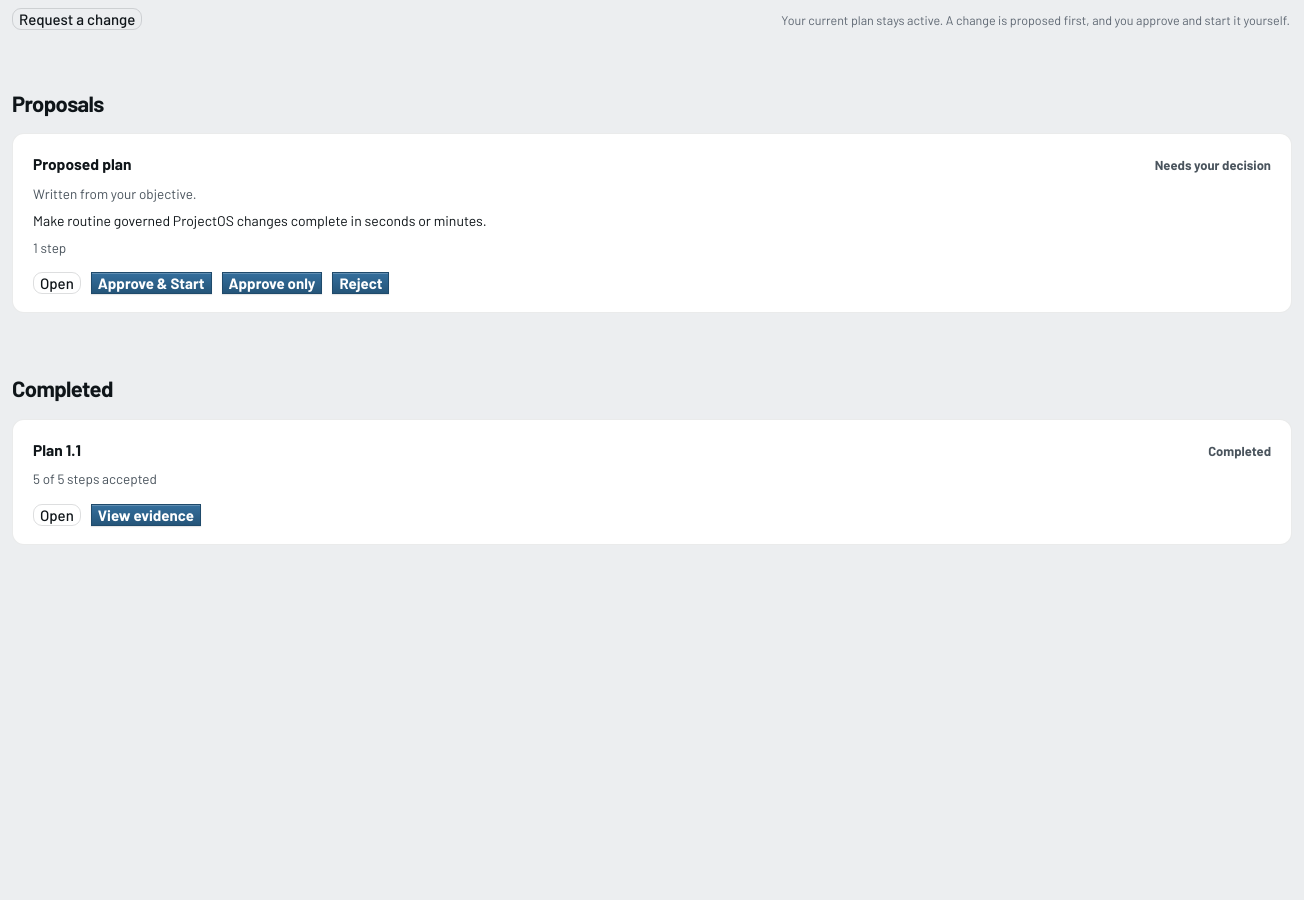
it: Approve & Start orchestrates the existing verbs, in order, and stops at a refusal › a refused decision stops everything: no activation, no run
Click the button "Approve & Start" at (151, 284), box [91, 272, 212, 294]
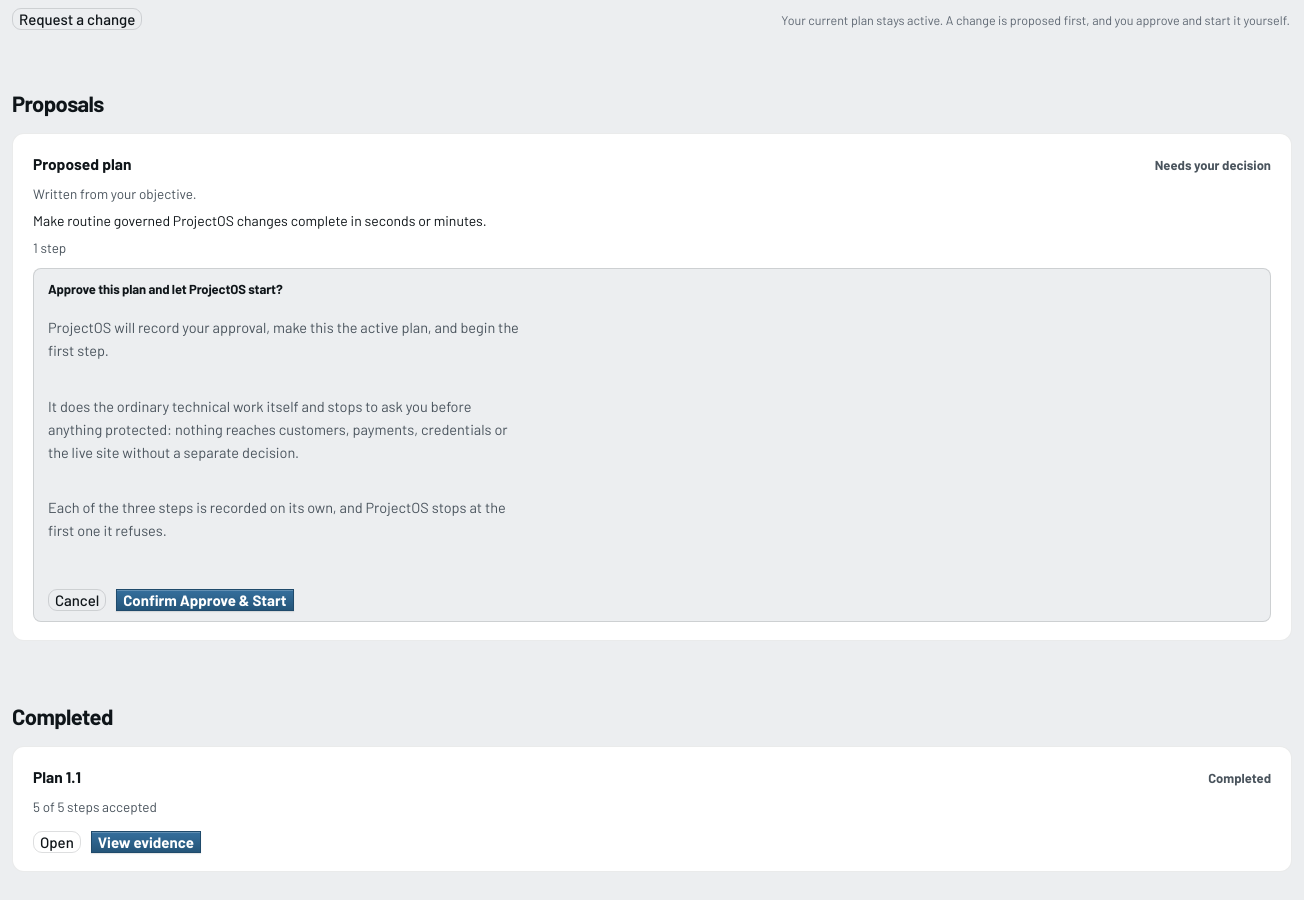
Click the button "Confirm Approve & Start" at (205, 600), box [116, 589, 294, 611]
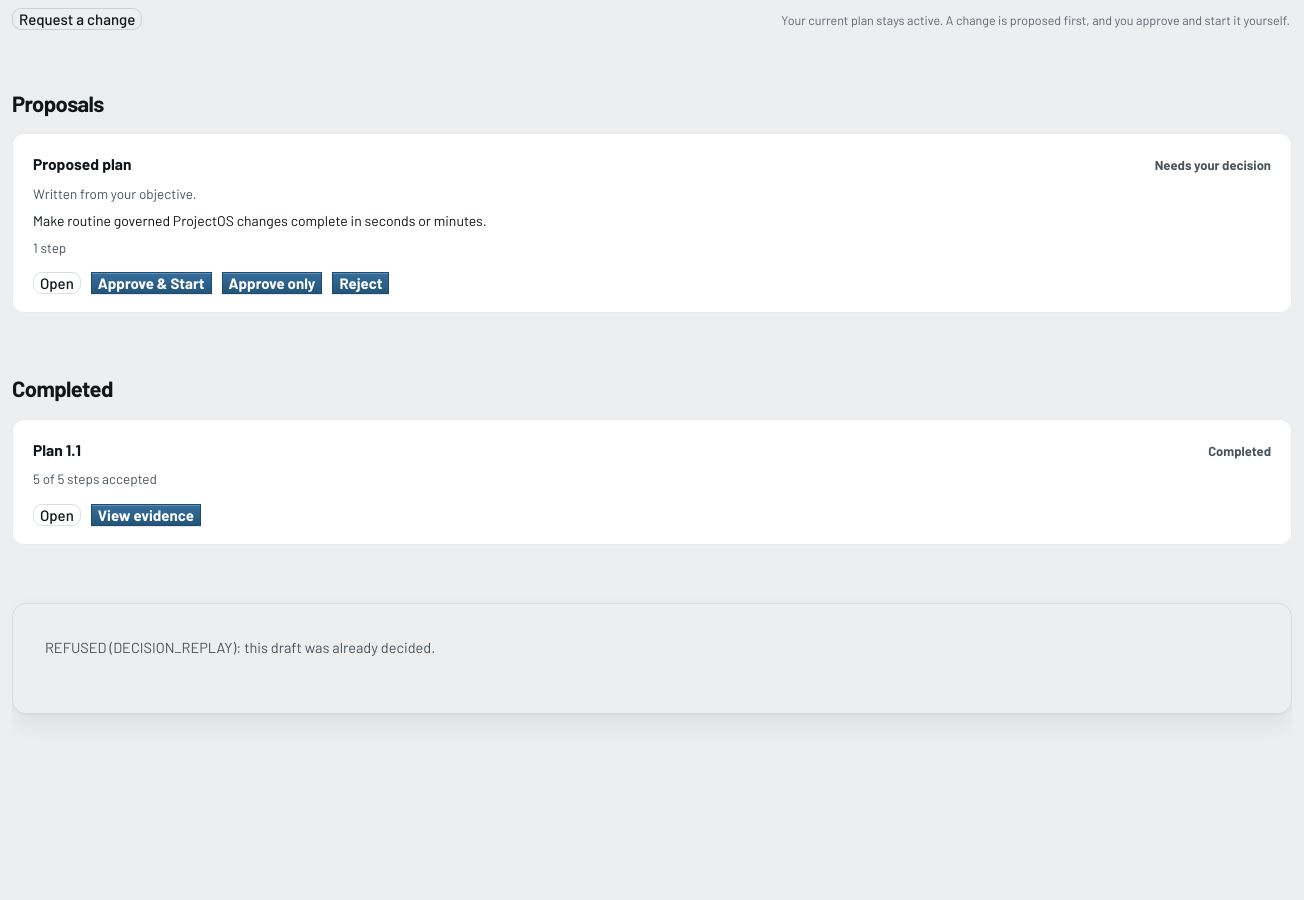
Expected: the text "REFUSED (DECISION_REPLAY)" is shown, [45, 638, 435, 656]
